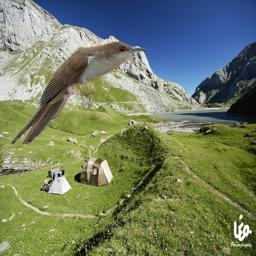Cuckoo: (10, 41, 147, 144)
